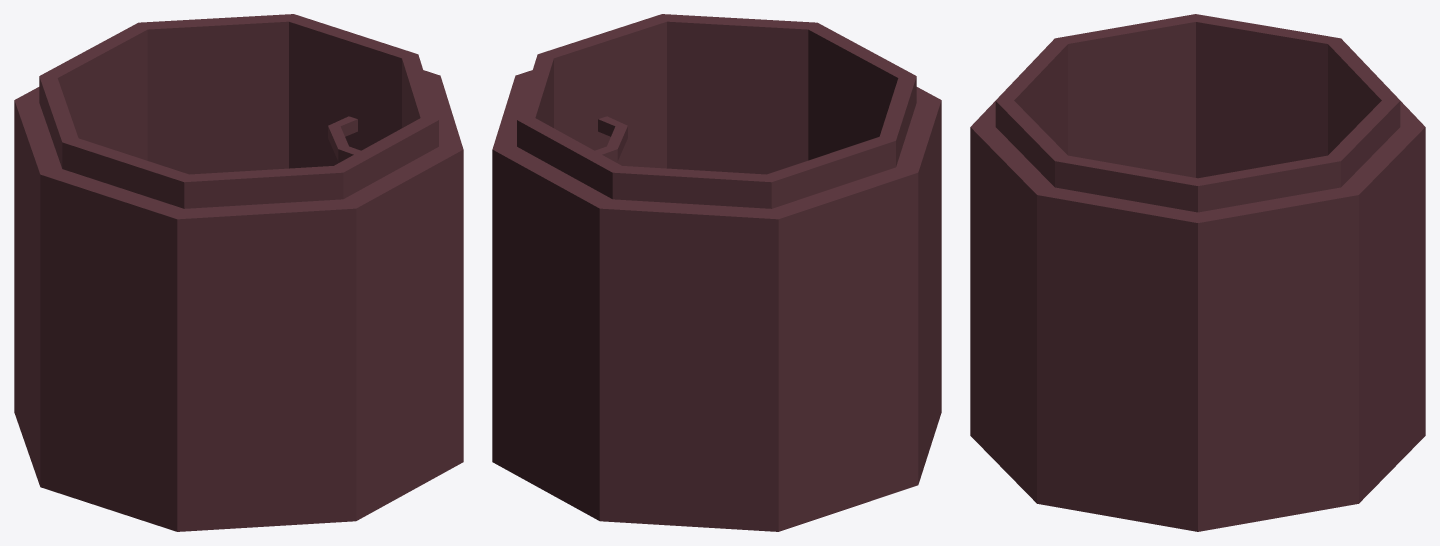
The model's file is concrete-ring-long.fbx.
3 views of the same model, side by side, from view 1: azimuth 30°, elevation 25°; view 2: azimuth 150°, elevation 25°; view 3: azimuth 270°, elevation 25° (orthographic).
Parts seen in each view (by area): view 1: concrete-ring-long; view 2: concrete-ring-long; view 3: concrete-ring-long.
Part boxes in pixels (x1,y1,x2,y2): concrete-ring-long: [14, 14, 463, 531]; concrete-ring-long: [492, 14, 941, 531]; concrete-ring-long: [970, 14, 1425, 531].
Size of the model in its own units: 1.24 by 1 by 1.23.
